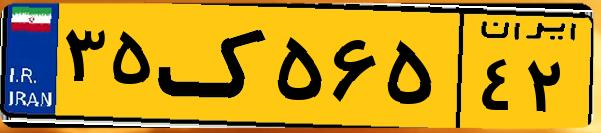2: (525, 38, 570, 115)
3: (57, 26, 110, 100)
4: (475, 38, 525, 113)
5: (270, 28, 330, 110), (385, 28, 445, 110), (110, 28, 158, 98)
6: (330, 28, 385, 110)
ک: (158, 12, 270, 120)
